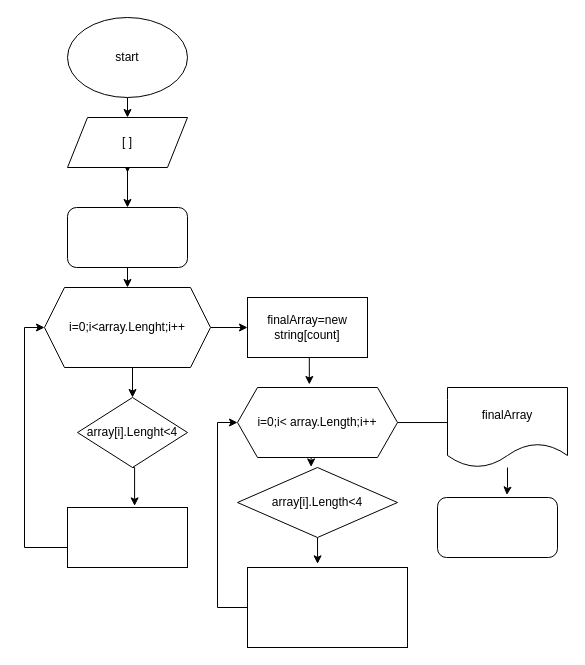
The diagram is 585 pixels wide and 665 high, and some of its shapes have lost their labels. Each missing label, with the centre of its shape:
"count++" belongs at (127,537).
"finalArray[index]=array[i] index++" belongs at (327,607).
"finish" belongs at (497,527).
"index=0 count=0" belongs at (127,237).
